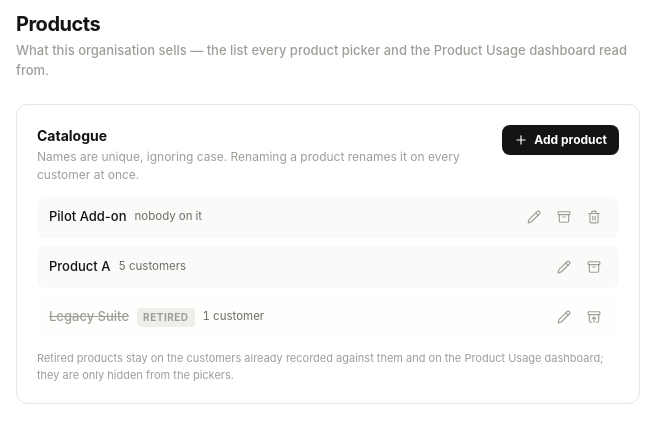
Test: ProductsPage › brings a retired product back
Expected: the text "Legacy Suite" is shown, [49, 307, 129, 327]
Click the button named "Bring back Legacy Suite" at coordinates (594, 317), box [581, 304, 607, 330]
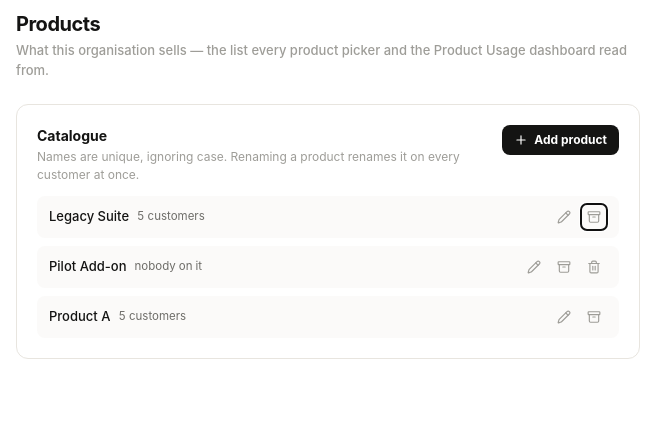
Expected: the text "Retired" is gone
